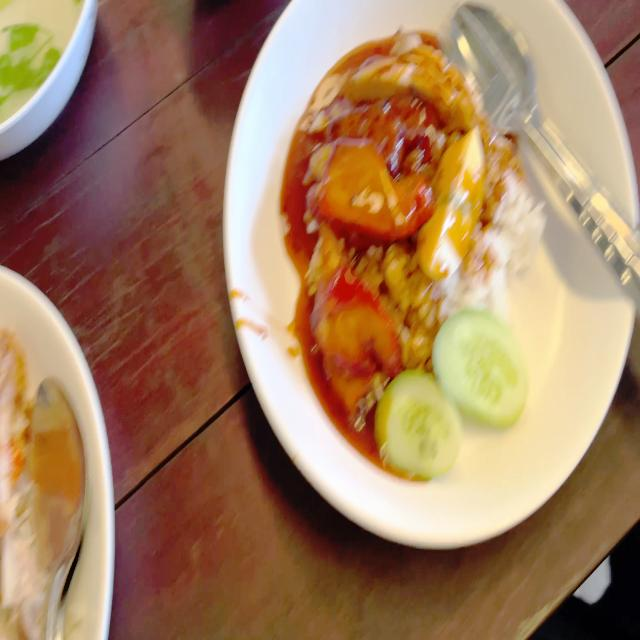boiled_egg: (422, 130, 487, 284)
chainese_sausage: (341, 87, 429, 162)
crispy_pork: (359, 31, 475, 121)
cucumber: (434, 307, 528, 429), (374, 380, 460, 461)
red_pork: (305, 135, 429, 233), (315, 260, 388, 402)
red_pork_and_crispy_pork: (296, 40, 552, 475)
